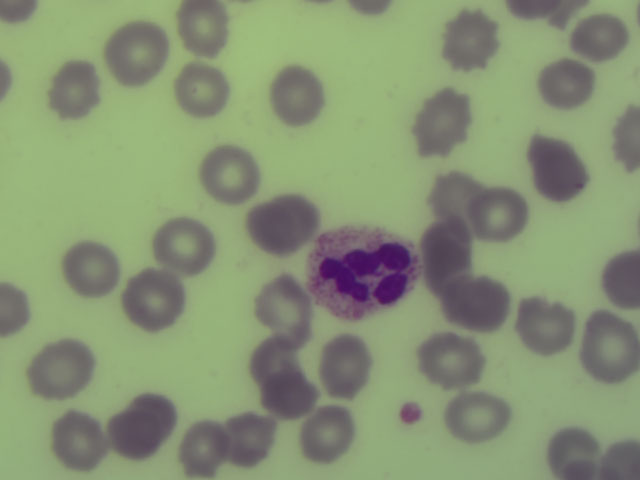Platelets: (401, 397, 423, 427)
RBC: (123, 266, 190, 336), (256, 281, 320, 349), (415, 87, 474, 155), (108, 21, 167, 86), (582, 309, 636, 380), (327, 331, 379, 403), (198, 143, 259, 204), (150, 215, 217, 270), (34, 338, 93, 400), (68, 234, 121, 301), (529, 137, 584, 201), (254, 196, 315, 253), (421, 337, 490, 387), (55, 410, 110, 472), (53, 58, 102, 126), (428, 226, 474, 297), (450, 387, 508, 443), (452, 275, 511, 330), (428, 173, 484, 229), (308, 405, 355, 471), (449, 4, 497, 68), (523, 299, 575, 354), (178, 4, 232, 56), (178, 60, 228, 115), (475, 193, 531, 242), (541, 55, 589, 112), (276, 68, 322, 127), (232, 409, 275, 465), (255, 337, 298, 393), (577, 19, 631, 62), (260, 373, 315, 415), (188, 421, 229, 476), (137, 394, 181, 445), (558, 429, 601, 480), (606, 248, 640, 312), (113, 410, 158, 456), (506, 3, 581, 25), (609, 430, 640, 480), (1, 279, 28, 336), (620, 114, 640, 167), (340, 1, 394, 20), (3, 2, 42, 27), (1, 58, 17, 97)
WBC: (312, 224, 421, 315)
